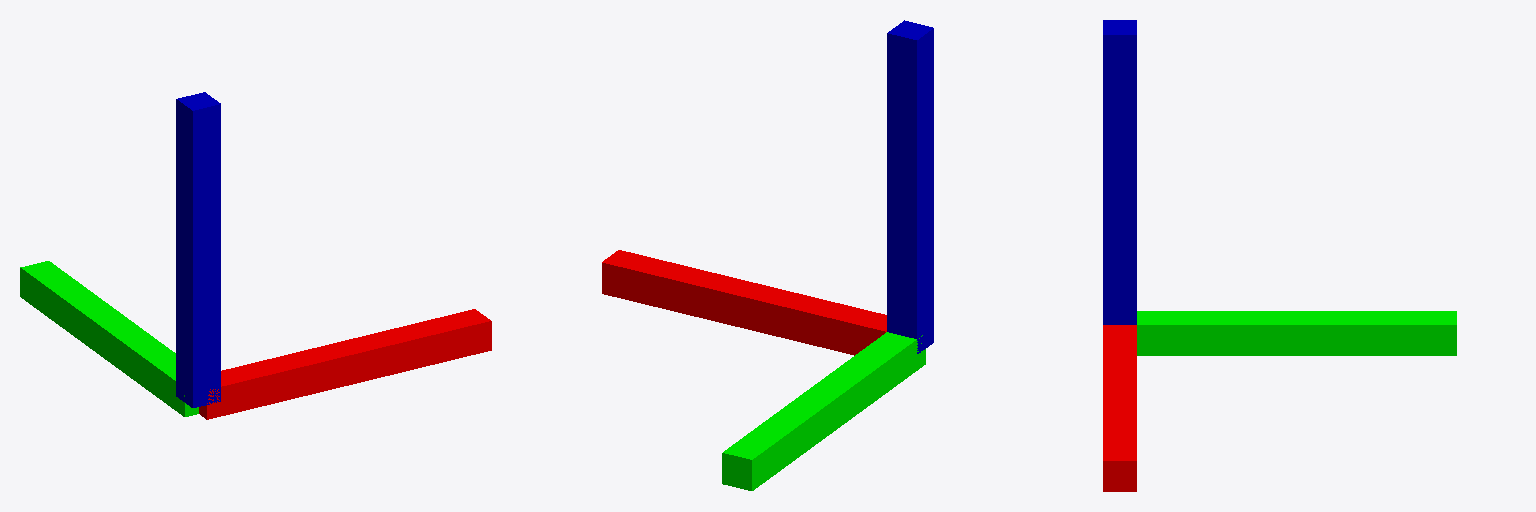
The robot description file, URDF, robot "axes.urdf":
<?xml version="1.0"?>

<robot name="axes.urdf">

  <link name="baselink"></link>

  <link name="z">

    <visual>
      <origin xyz="0 0 .05"/>
      <geometry>
        <box size=".01 .01 .1"/>
      </geometry>
      <material name="blue">
        <color rgba="0 0 .8 1"/>
      </material>
    </visual>

  </link>

  <link name="y">

    <visual>
      <origin xyz="0 .05 0"/>
      <geometry>
        <box size=".01 .1 .01"/>
      </geometry>
      <material name="green">
        <color rgba="0 1 0 1"/>
      </material>
    </visual>

  </link>

  <link name="x">

    <visual>
      <origin xyz=".05 0 0"/>
      <geometry>
        <box size=".1 .01 0.01"/>
      </geometry>
      <material name="red">
        <color rgba="1 0 0 1"/>
      </material>
    </visual>

  </link>

  <joint name="xjoint" type="fixed">
    <origin xyz="0 0 0" rpy="0 0 0"/>
    <parent link="baselink"/>
    <child link="x"/>
  </joint>
  <joint name="yjoint" type="fixed">
    <origin xyz="0 0 0" rpy="0 0 0"/>
    <parent link="baselink"/>
    <child link="y"/>
  </joint>
  <joint name="zjoint" type="fixed">
    <origin xyz="0 0 0" rpy="0 0 0"/>
    <parent link="baselink"/>
    <child link="z"/>
  </joint>

  <link name="world"/>
  <joint name="world_joint" type="fixed">
    <parent link="world"/>
    <child link="baselink"/>
    <origin rpy="0.0 0.0 0" xyz="0.0 0.0 0.0"/>
  </joint>

</robot>

--- What the picture shows (computed from the rendered views, not written in the file) ---
The picture shows the robot from 3 angles, left to right: view 1: azimuth 30°, elevation 25°; view 2: azimuth 150°, elevation 25°; view 3: azimuth 270°, elevation 25°; orthographic projection.
Robot: axes.urdf — 5 links, 4 joints (4 fixed); root link world; default pose: every joint at zero.
Links seen in each view (by area): view 1: z, x, y; view 2: z, x, y; view 3: y, z, x.
Link boxes in pixels (x1,y1,x2,y2): z: (176, 92, 220, 407); x: (199, 309, 491, 419); y: (20, 261, 198, 416); z: (887, 20, 933, 353); x: (602, 250, 886, 355); y: (722, 332, 925, 490); y: (1137, 311, 1456, 355); z: (1103, 20, 1136, 324); x: (1103, 325, 1136, 491).
Size in the robot's own frame: 0.105 by 0.105 by 0.105 metres.
Geometry: primitives only (box / cylinder / sphere), no mesh files.